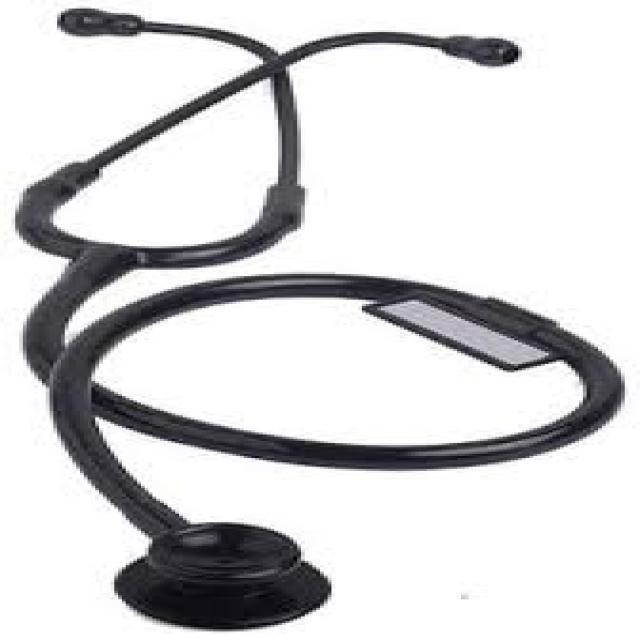stethoscope: (16, 12, 542, 618)
